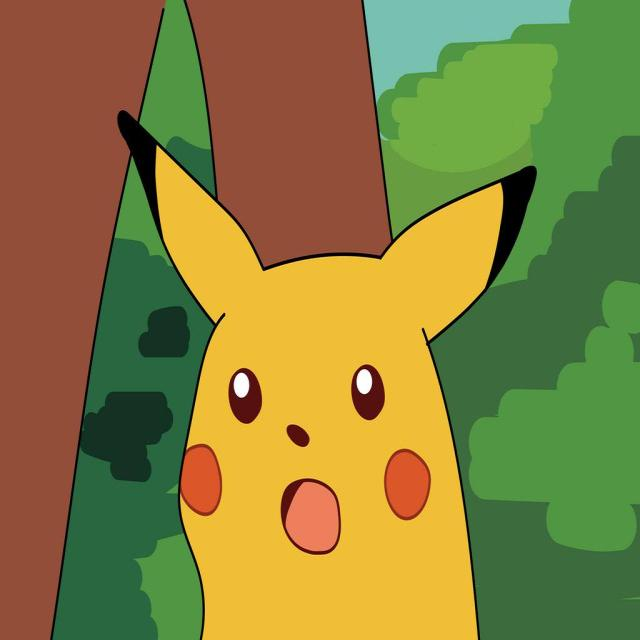pikachu: (118, 109, 538, 640)
